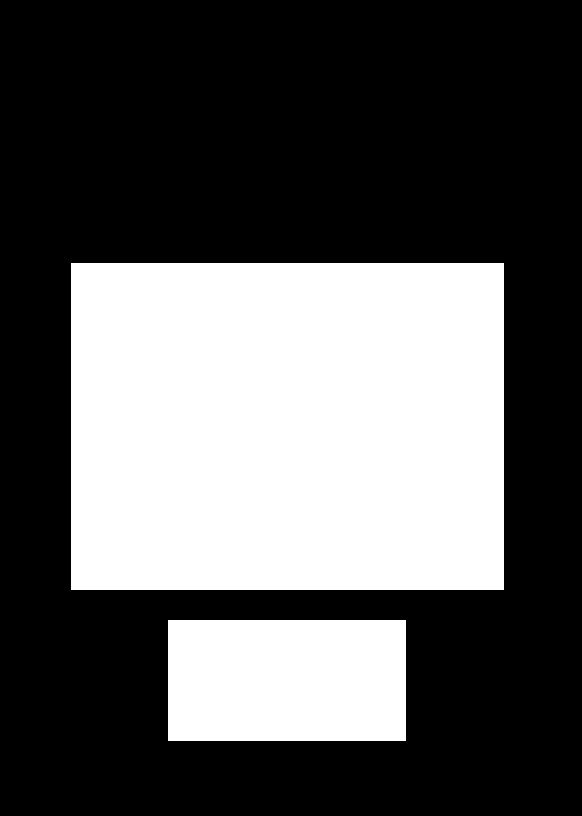table: (71, 263, 503, 589), (168, 620, 405, 740)
